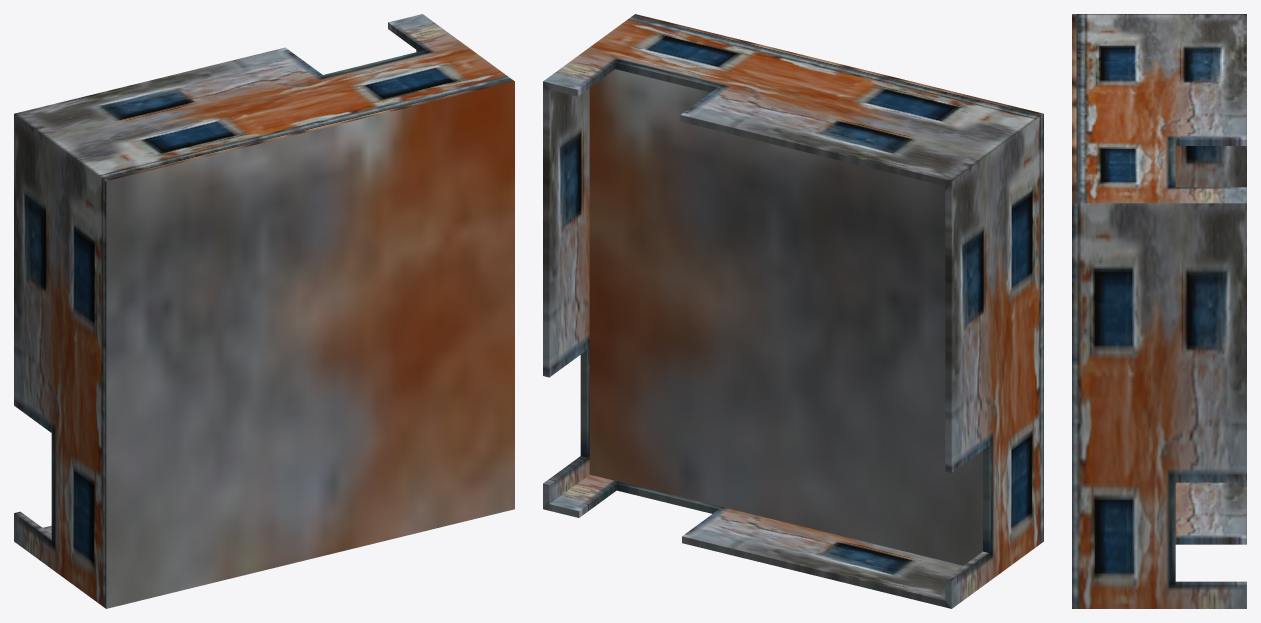
Rendered from 8x8NSEW_doubles_wtf.obj.
3 views of the same model, side by side, from view 1: azimuth 30°, elevation 25°; view 2: azimuth 150°, elevation 25°; view 3: azimuth 270°, elevation 25° (orthographic). The views are drawn at different scales.
Parts seen in each view (by area): view 1: group2; view 2: group2; view 3: group2.
Part boxes in pixels (x1=…): group2: x1=14, y1=14, x2=514, y2=608; group2: x1=543, y1=14, x2=1043, y2=608; group2: x1=1072, y1=14, x2=1246, y2=608.
Bounding box in the file's own units: 660 × 660 × 258.
